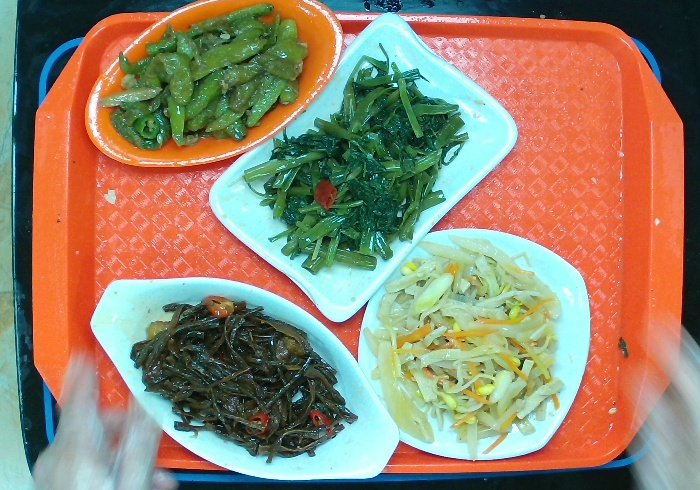RJxy-Ju_Huang_Tuo_Yuan: (83, 1, 343, 167)
RJxy-Si_Fang_Ao_Bian_Wan: (205, 11, 520, 325)
RJxy-Si_Fang_Die: (356, 224, 591, 462)
RJxy-Yu_Pan: (90, 267, 403, 490)
